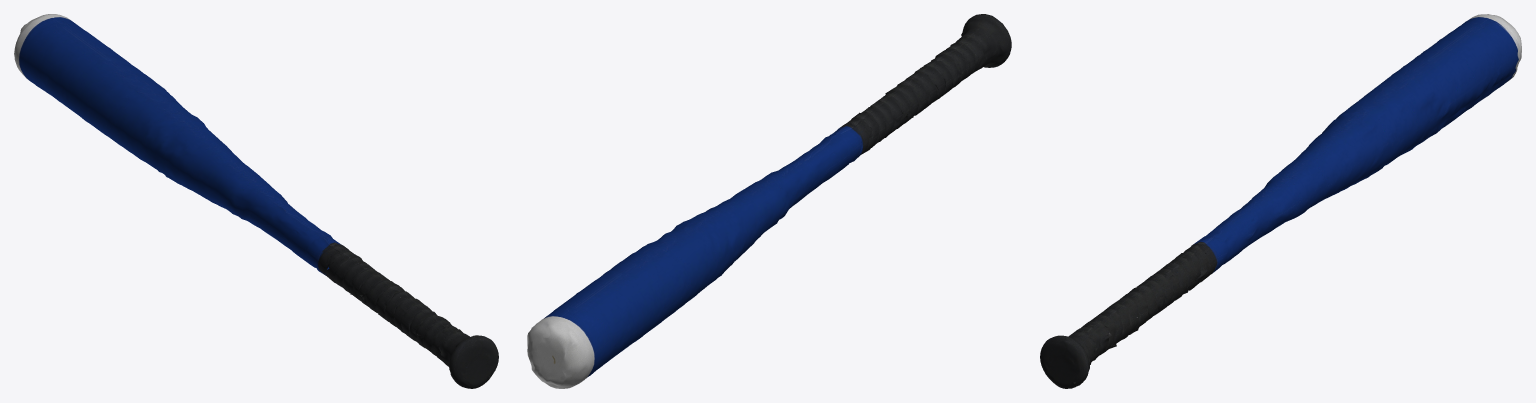
Rendered from weapon-slugger.glb.
3 renders of one model, left to right at view 1: azimuth 30°, elevation 25°; view 2: azimuth 150°, elevation 25°; view 3: azimuth 330°, elevation 25°, orthographic.
Parts seen in each view (by area): view 1: slugger; view 2: slugger; view 3: slugger.
Boxes of the visible parts, x1,y1,x2,y2 form: slugger: (14, 14, 498, 388); slugger: (527, 14, 1011, 388); slugger: (1040, 14, 1521, 388).
Size of the model in its own units: 0.0718 by 0.0714 by 0.84.
1 material, 1 textured.
